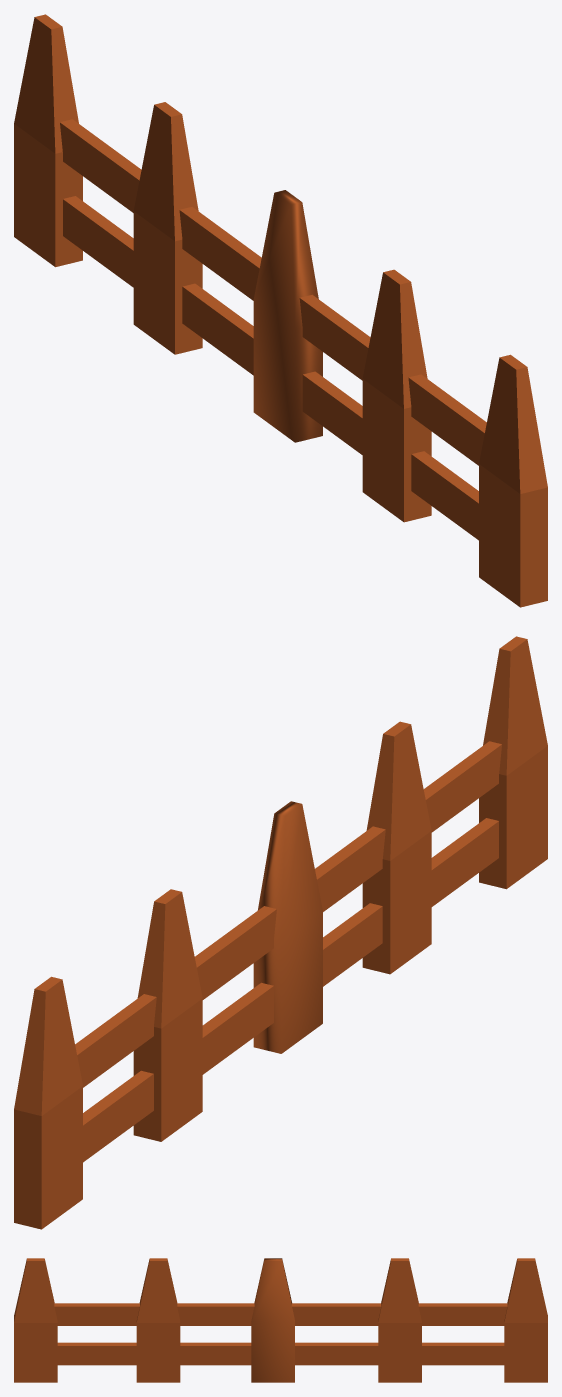
File: Fence.fbx
3 views of the same model, one above another, from view 1: azimuth 30°, elevation 25°; view 2: azimuth 150°, elevation 25°; view 3: azimuth 270°, elevation 25° (orthographic). The views are drawn at different scales.
Visible parts, largest first — view 1: Cube.013, Cube.004, Cube.003, Cube.009, Cube.012, Cube.007, Cube.010, Cube.001, Cube.008, Cube.011, Cube.002, Cube.005 (+1 smaller); view 2: Cube.012, Cube.003, Cube.009, Cube.004, Cube.013, Cube.007, Cube.010, Cube.001, Cube.008, Cube.011, Cube.002, Cube.005 (+1 smaller); view 3: Cube.003, Cube.013, Cube.012, Cube.004, Cube.009, Cube.008, Cube.007, Cube.011, Cube.010, Cube.002, Cube.001, Cube.006 (+1 smaller).
Part boxes in pixels (box(x1,y1,x2,y2)): Cube.013: box(479, 354, 547, 607); Cube.004: box(253, 190, 322, 442); Cube.003: box(362, 269, 431, 522); Cube.009: box(133, 102, 202, 354); Cube.012: box(14, 14, 82, 267); Cube.007: box(179, 207, 261, 300); Cube.010: box(60, 119, 141, 212); Cube.001: box(408, 374, 486, 465); Cube.008: box(182, 283, 253, 375); Cube.011: box(63, 196, 133, 287); Cube.002: box(411, 451, 478, 540); Cube.005: box(299, 294, 370, 380); Cube.012: box(14, 976, 82, 1229); Cube.003: box(362, 721, 431, 974); Cube.009: box(133, 889, 202, 1141); Cube.004: box(253, 801, 322, 1053); Cube.013: box(479, 636, 547, 889); Cube.007: box(194, 906, 276, 999); Cube.010: box(75, 994, 156, 1087); Cube.001: box(423, 741, 501, 832); Cube.008: box(202, 982, 273, 1074); Cube.011: box(83, 1070, 153, 1162); Cube.002: box(431, 818, 498, 906); Cube.005: box(315, 826, 385, 911); Cube.003: box(136, 1258, 180, 1382); Cube.013: box(14, 1258, 57, 1382); Cube.012: box(504, 1258, 547, 1382); Cube.004: box(251, 1258, 294, 1382); Cube.009: box(378, 1258, 421, 1382); Cube.008: box(295, 1342, 378, 1365); Cube.007: box(292, 1303, 381, 1325); Cube.011: box(422, 1342, 504, 1365); Cube.010: box(418, 1303, 507, 1325); Cube.002: box(57, 1342, 136, 1365); Cube.001: box(54, 1303, 139, 1325); Cube.006: box(180, 1342, 251, 1365).
Bounding box in the file's own units: 18.02 × 141 × 571.
